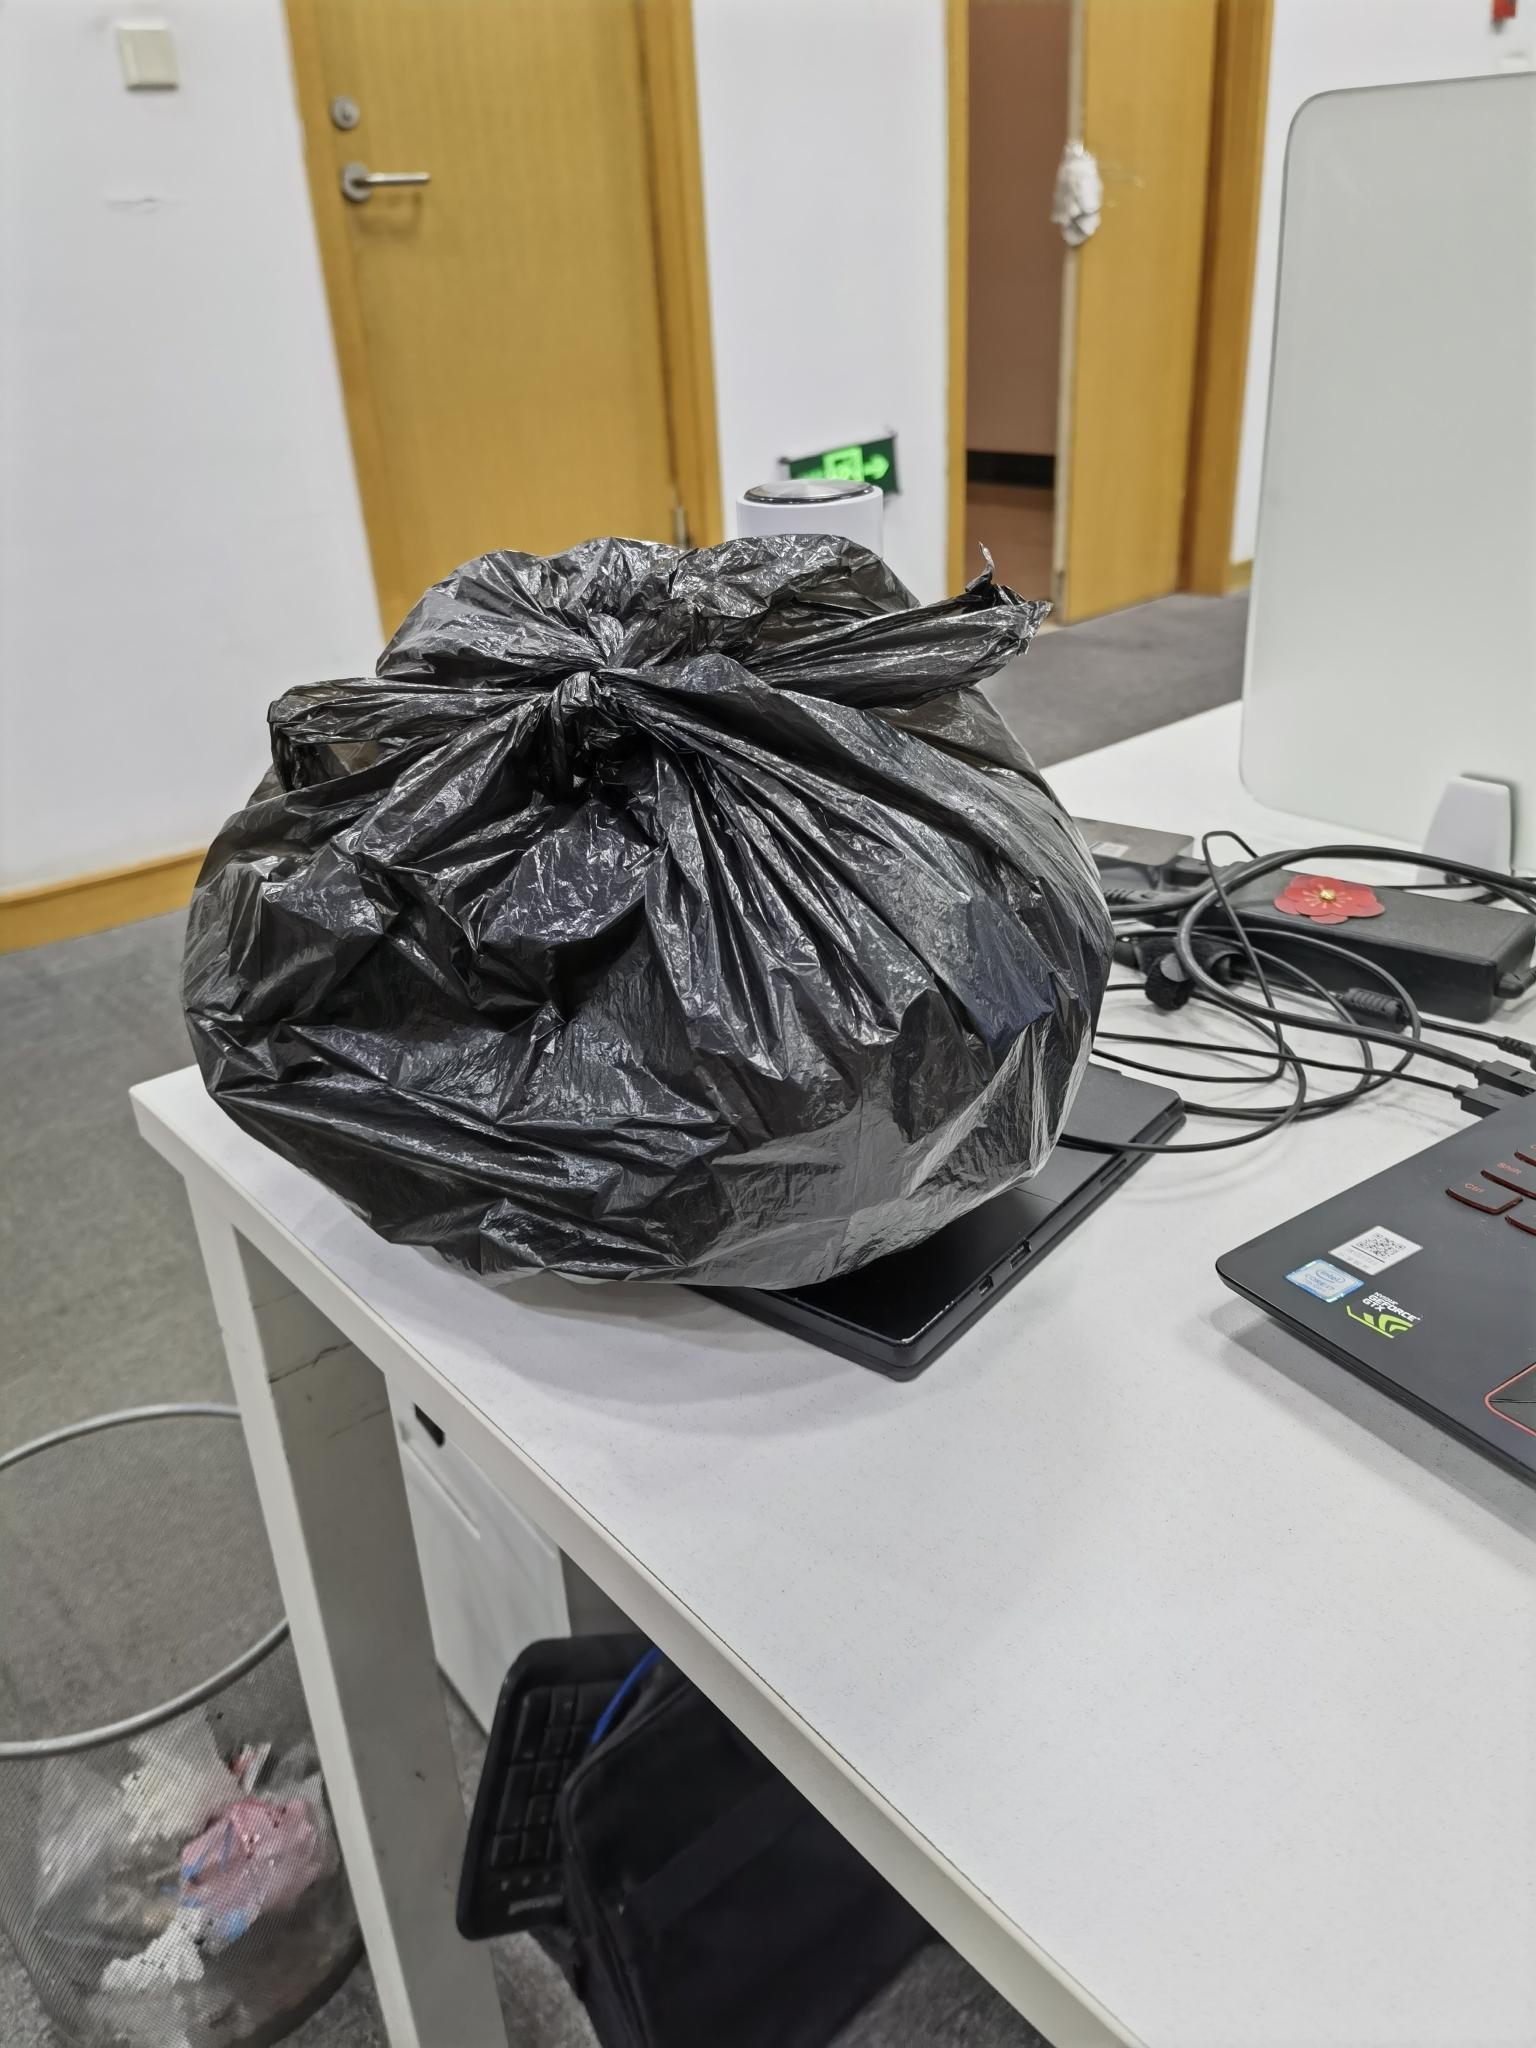black_bag: (181, 537, 1120, 1301)
